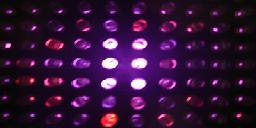LED: (96, 110, 122, 128), (126, 18, 151, 36), (43, 37, 68, 54), (155, 56, 180, 73), (98, 56, 124, 72), (71, 55, 93, 72), (211, 24, 229, 34)
